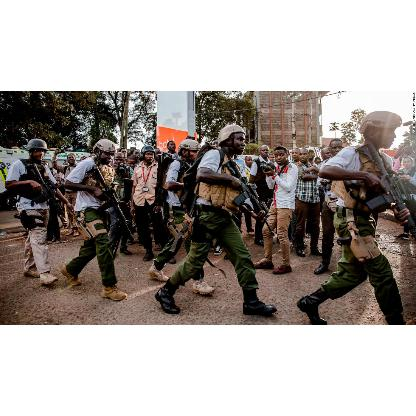gun: (355, 141, 415, 238), (223, 158, 279, 232), (84, 162, 134, 238), (22, 160, 66, 224)
